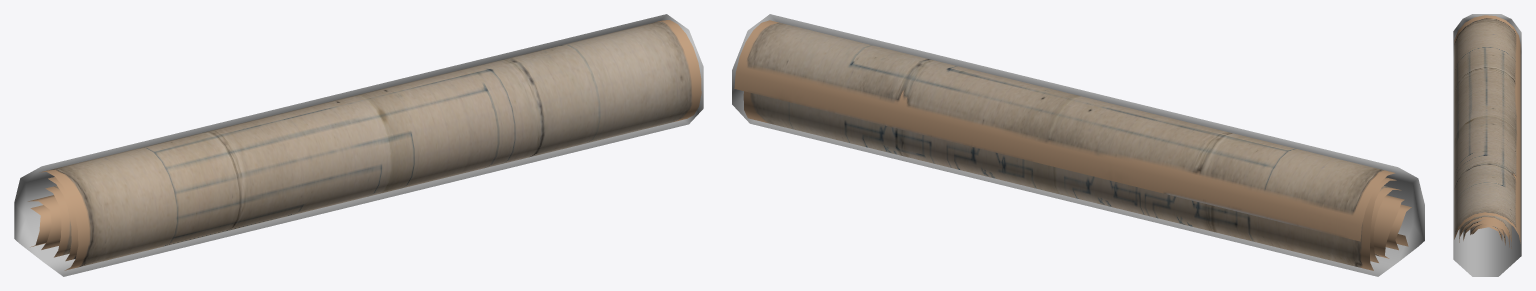
Rendered from SM_Scroll_02.gltf.
3 views of the same model, side by side, from view 1: azimuth 30°, elevation 25°; view 2: azimuth 150°, elevation 25°; view 3: azimuth 270°, elevation 25° (orthographic). The views are drawn at different scales.
Visible parts, largest first — view 1: SM_Scroll_02_LOD0, SM_Scroll_02_ConvexHulls; view 2: SM_Scroll_02_LOD0, SM_Scroll_02_ConvexHulls; view 3: SM_Scroll_02_LOD0, SM_Scroll_02_ConvexHulls.
Boxes of the visible parts, x1,y1,x2,y2 form: SM_Scroll_02_LOD0: (28, 20, 701, 270); SM_Scroll_02_ConvexHulls: (14, 14, 703, 276); SM_Scroll_02_LOD0: (734, 20, 1411, 270); SM_Scroll_02_ConvexHulls: (732, 14, 1424, 276); SM_Scroll_02_LOD0: (1454, 15, 1520, 248); SM_Scroll_02_ConvexHulls: (1453, 14, 1521, 276).
Size of what is drawn, in the model's own units: 0.4773 by 0.0662 by 0.066.
